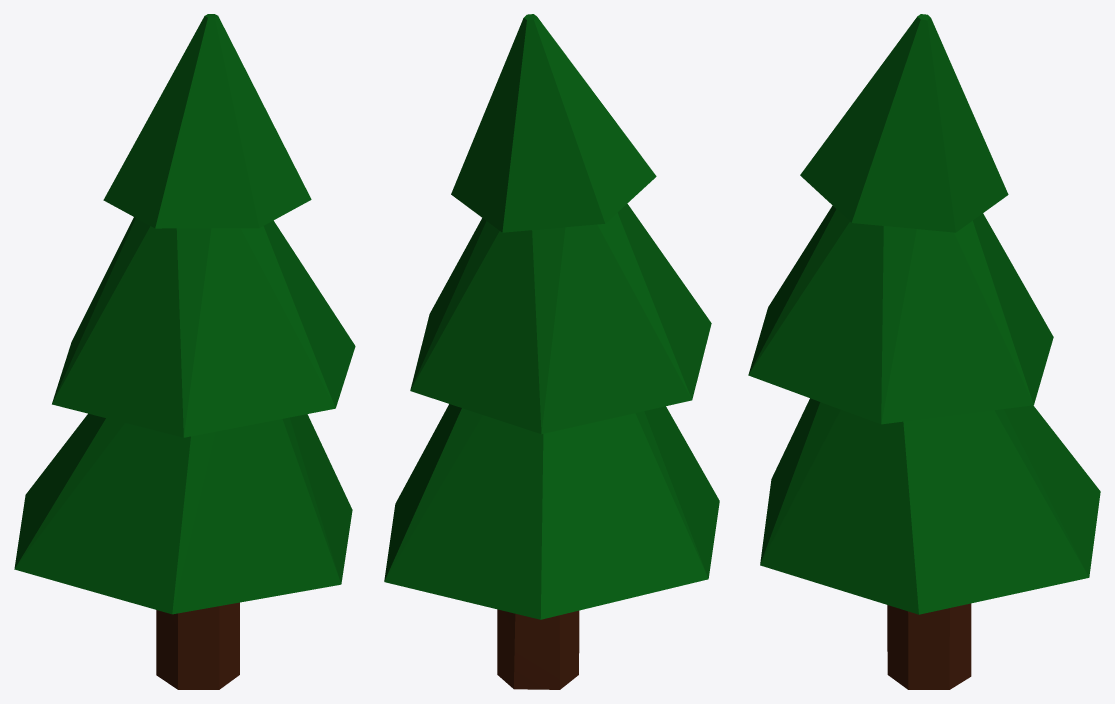
The model's file is Pino2.FBX.
3 renders of one model, left to right at view 1: azimuth 30°, elevation 25°; view 2: azimuth 150°, elevation 25°; view 3: azimuth 270°, elevation 25°, orthographic.
Parts seen in each view (by area): view 1: Pino001; view 2: Pino001; view 3: Pino001.
Part boxes in pixels (<box>): Pino001: <box>14,14,355,689</box>; Pino001: <box>384,14,719,689</box>; Pino001: <box>748,14,1100,689</box>.
Bounding box in the file's own units: 166 × 319 × 154.
